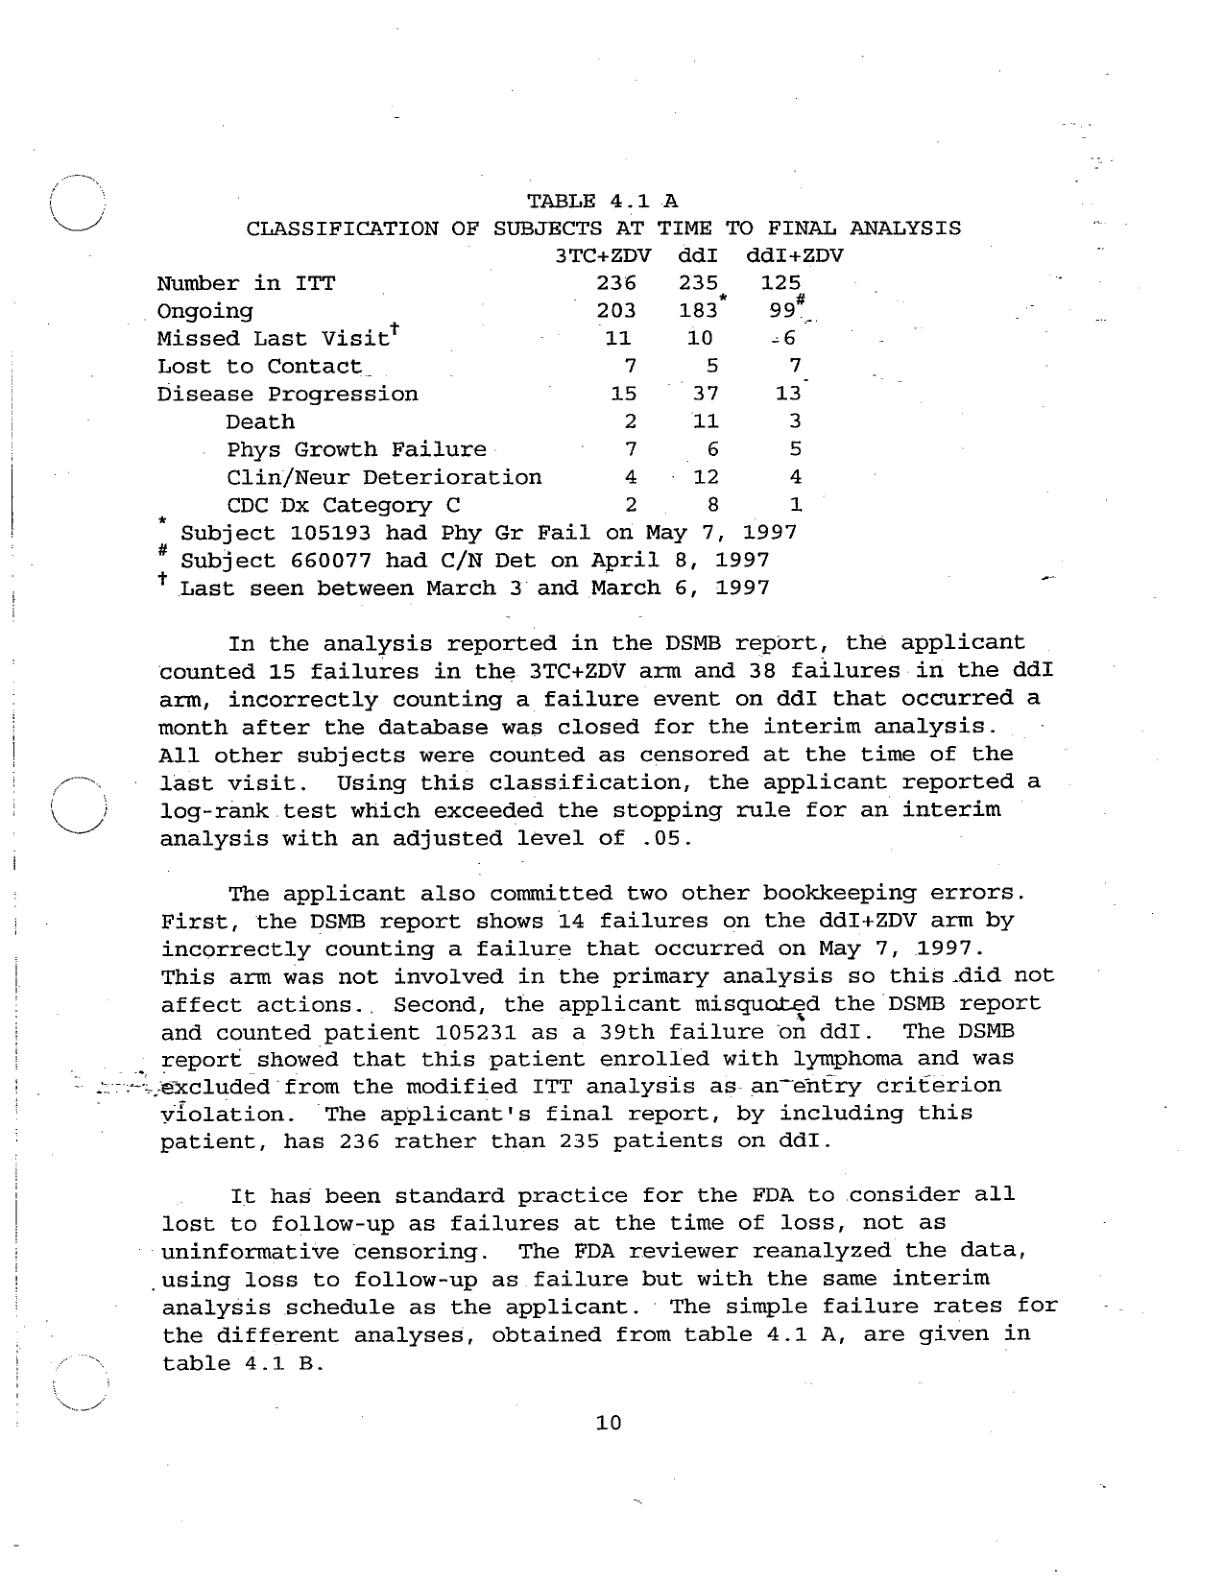nolines: (156, 244, 847, 514)
